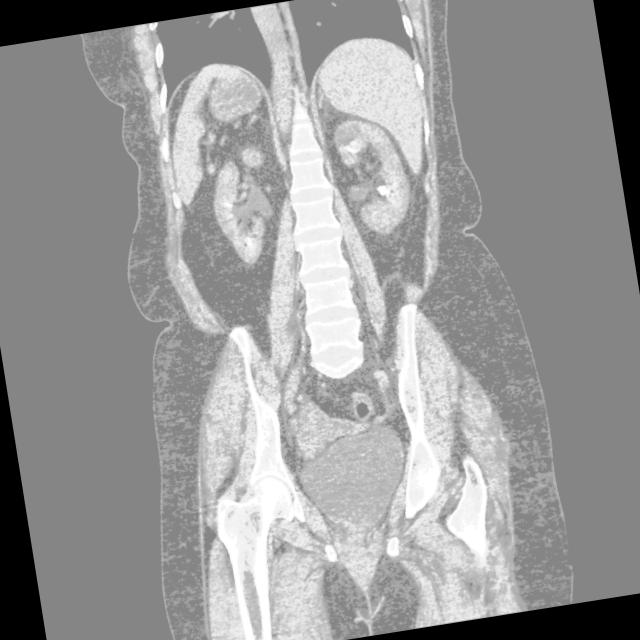STONE: (207, 121, 421, 242)
